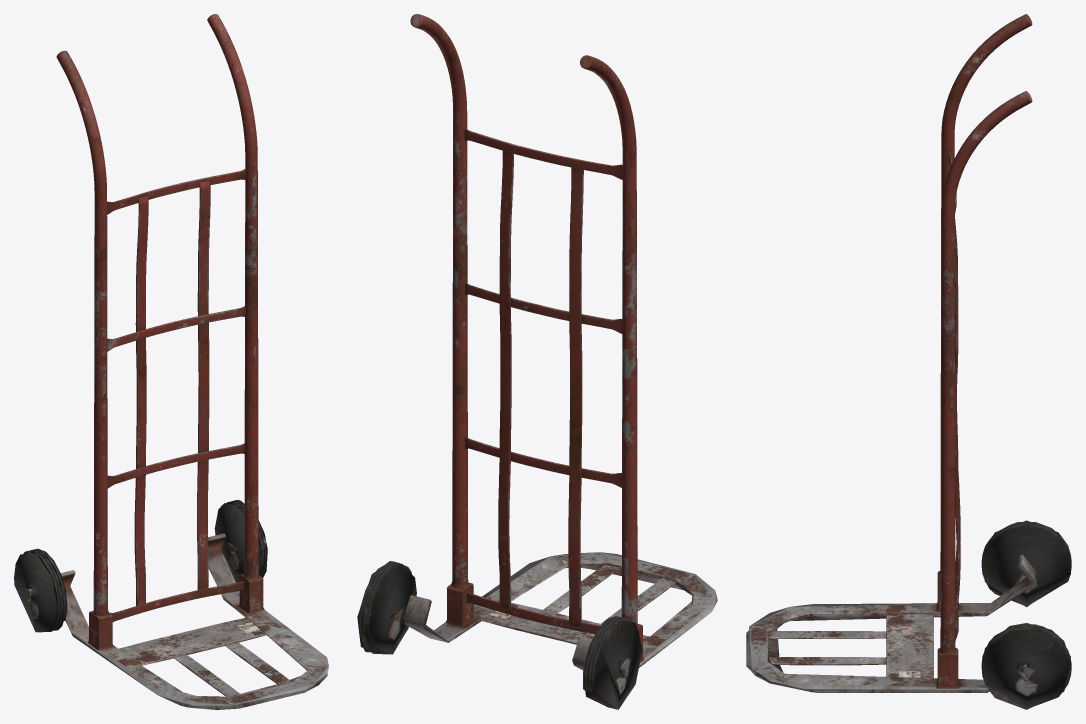
The model's file is hand_truck.glb.
3 renders of one model, left to right at view 1: azimuth 30°, elevation 25°; view 2: azimuth 150°, elevation 25°; view 3: azimuth 270°, elevation 25°, orthographic. The views are drawn at different scales.
Visible parts, largest first — view 1: hand_truck; view 2: hand_truck; view 3: hand_truck.
Part boxes in pixels (left/top/right/bottom): hand_truck: left=14, top=14, right=328, bottom=709; hand_truck: left=357, top=14, right=717, bottom=709; hand_truck: left=746, top=14, right=1071, bottom=709.
Bounding box in the file's own units: 0.5789 × 1.4 × 0.6877.
Materials: 1 (1 with a texture image).
